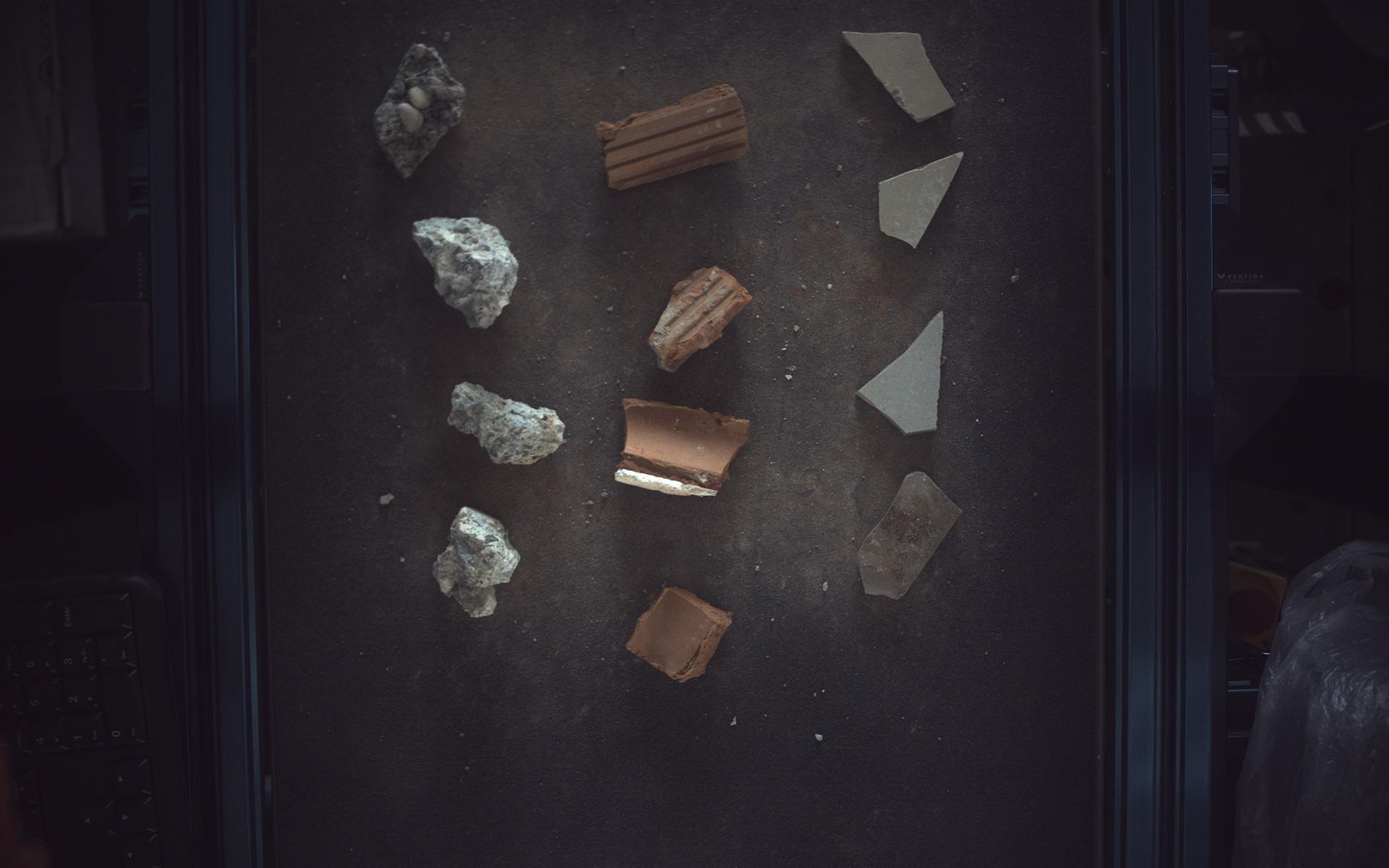brick: (597, 83, 750, 189), (616, 399, 749, 497), (649, 266, 753, 372), (627, 587, 733, 684)
concrete: (375, 42, 466, 177), (412, 216, 518, 328), (448, 382, 566, 465), (433, 507, 520, 618)
tile: (859, 472, 964, 600), (859, 311, 946, 434), (844, 30, 957, 121), (881, 151, 966, 247)
